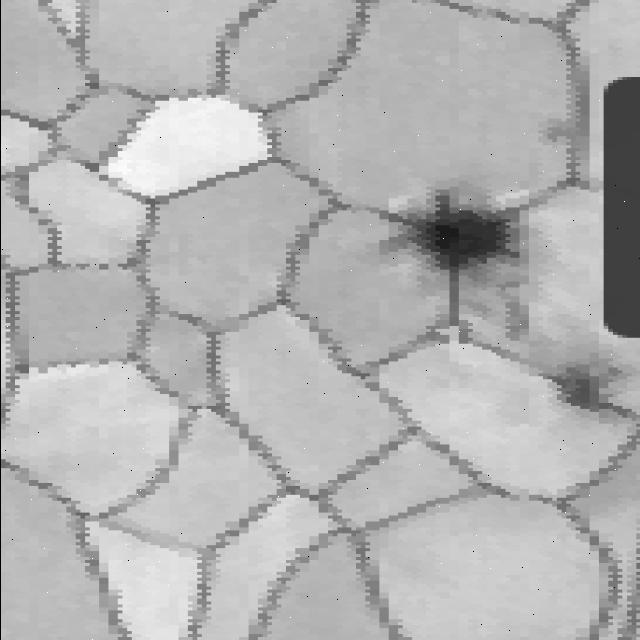good_void: (379, 202, 515, 275), (546, 358, 609, 407), (521, 102, 577, 152)
